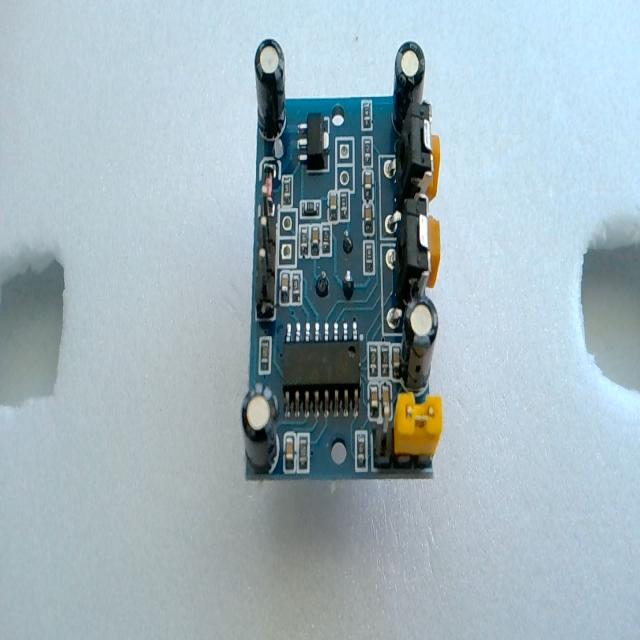Electrolytic capacitor: (240, 383, 280, 474), (400, 296, 438, 391), (254, 38, 287, 142), (392, 40, 426, 136)
IC: (280, 340, 360, 421)
pinheader: (257, 190, 278, 318)
